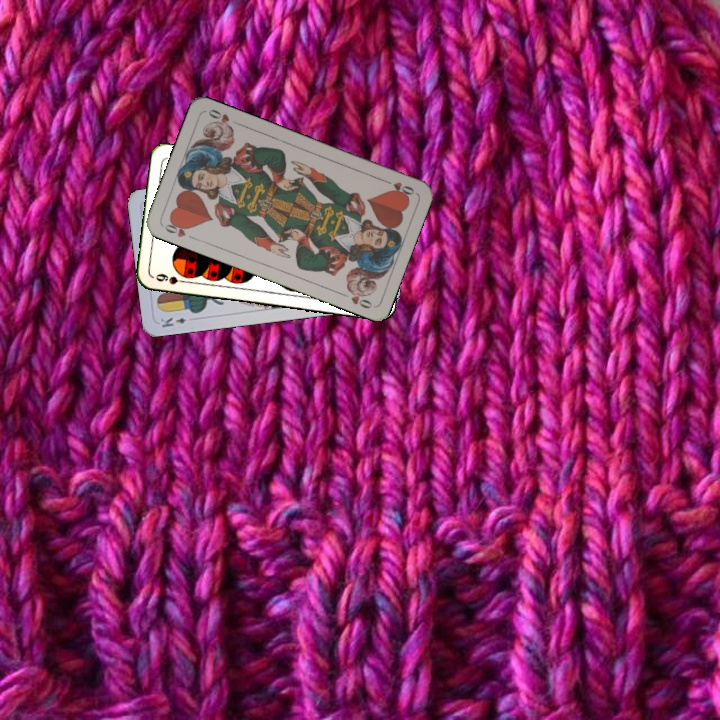EK: (156, 313, 189, 330)
HO: (159, 216, 198, 243), (379, 175, 417, 199)
S9: (152, 270, 192, 287)
